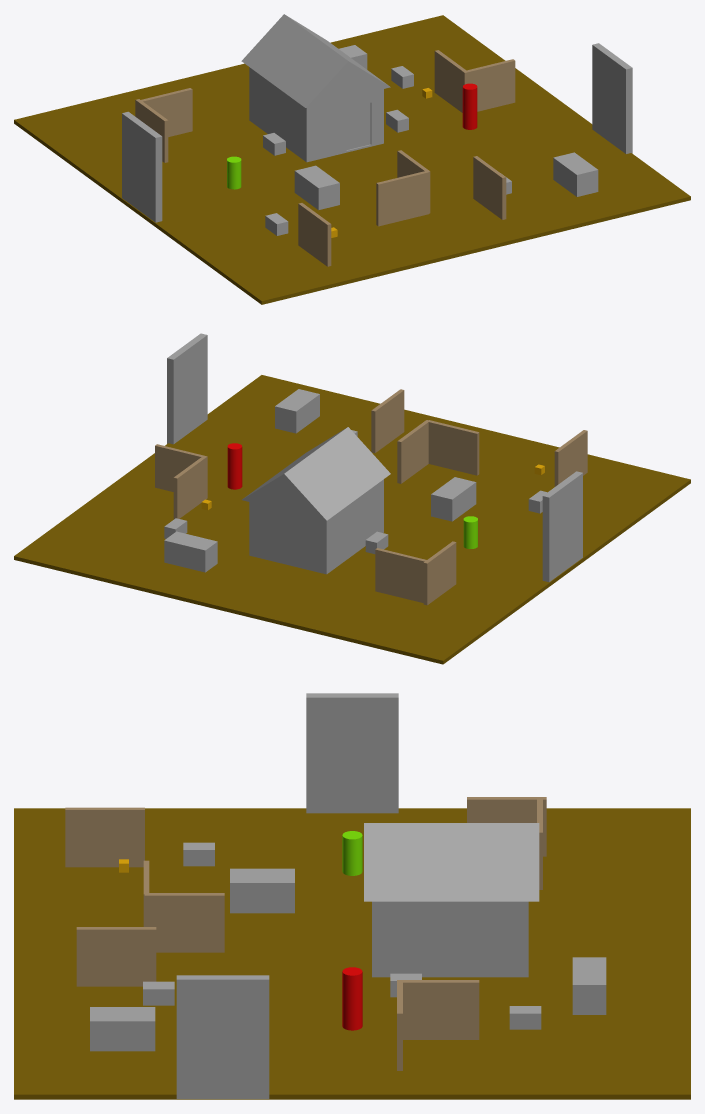
File: MapModel.fbx
The picture shows the model from 3 angles, top to bottom: view 1: azimuth 30°, elevation 25°; view 2: azimuth 150°, elevation 25°; view 3: azimuth 270°, elevation 25°; orthographic projection. The views are drawn at different scales.
Visible parts, largest first — view 1: map; view 2: map; view 3: map.
Boxes of the visible parts, bbox=[...] form: map: bbox=[14, 14, 690, 304]; map: bbox=[14, 333, 690, 664]; map: bbox=[14, 693, 690, 1099].
Bounding box in the file's own units: 67.27 × 14.61 × 67.07.
